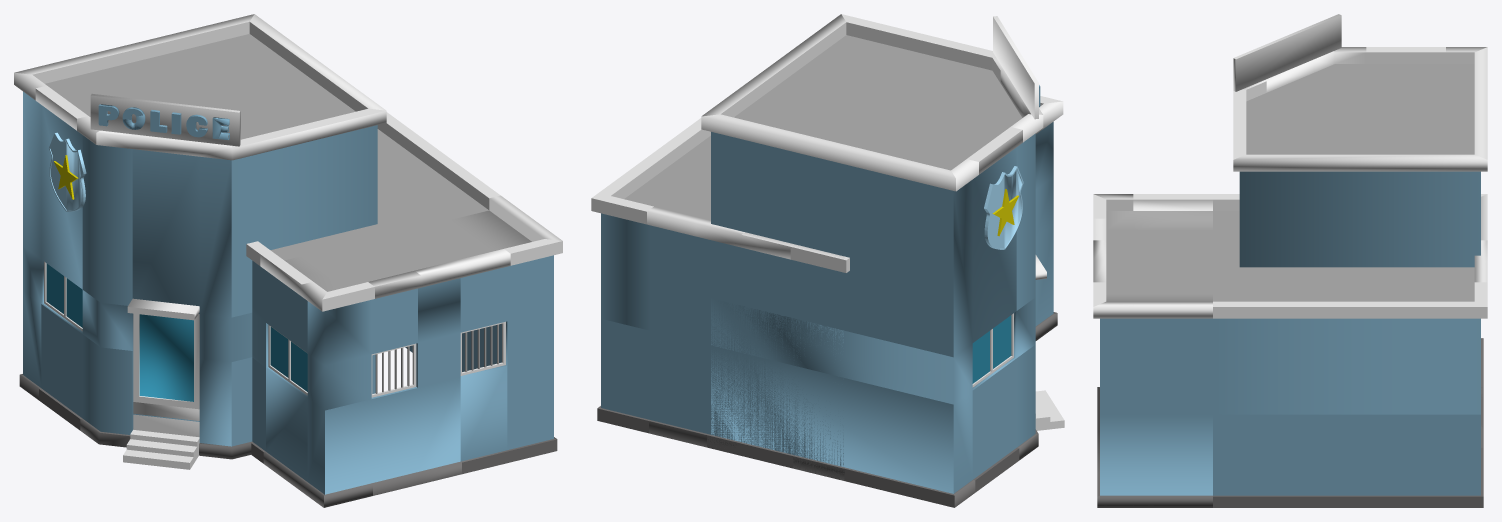
The model's file is Pol.obj.
3 renders of one model, left to right at view 1: azimuth 30°, elevation 25°; view 2: azimuth 150°, elevation 25°; view 3: azimuth 270°, elevation 25°, orthographic. The views are drawn at different scales.
Parts seen in each view (by area): view 1: Police_Station, Door_6, Staircase_2, Police_Text, Window2_2, Window1_2, Prison1, Prison2; view 2: Police_Station, Window1_2, Staircase_2; view 3: Police_Station.
Boxes of the visible parts, x1,y1,x2,y2 form: Police_Station: (14,14,562,507); Door_6: (127,298,199,437); Staircase_2: (123,430,199,469); Police_Text: (98,104,229,140); Window2_2: (268,325,307,395); Window1_2: (44,261,82,331); Prison1: (371,343,416,397); Prison2: (460,321,505,375); Police_Station: (591,14,1063,507); Window1_2: (972,313,1013,387); Staircase_2: (1035,390,1064,430); Police_Station: (1093,14,1487,507).
Size of the model in its own units: 39.62 by 38.11 by 40.77.
